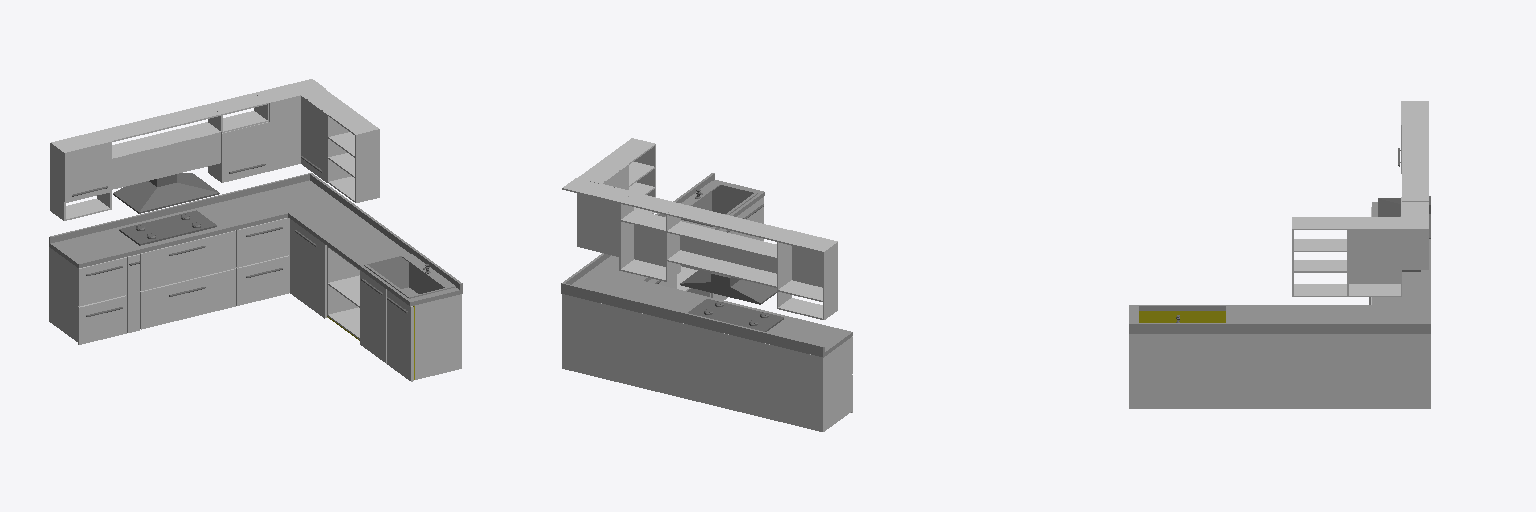
The model's file is kitchenunit.obj.
The picture shows the model from 3 angles: view 1: azimuth 30°, elevation 25°; view 2: azimuth 150°, elevation 25°; view 3: azimuth 270°, elevation 25°; orthographic projection.
Visible parts, largest first — view 1: Cube.004_Cube.005, Cube.025_Cube.032, Cube.010_Cube.011, Cube.008_Cube.009, Cube.003_Cube.004, Cube.018_Cube.023, Cube.012_Cube.013, Cube.016_Cube.000, Cube.027_Cube.034, Cube.026_Cube.033, Cube.049_Cube.048, Cube.021_Cube.026 (+18 smaller); view 2: Cube.001_Cube.002, Cube.004_Cube.005, Cube.025_Cube.032, Cube.016_Cube.000, Cube.019_Cube.040, Cube.042_Cube, Cube.040_Cube.041, Cube.018_Cube.023, Cube.020_Cube.025, Cube.027_Cube.034, Cube.026_Cube.033, Cube.017_Cube.020 (+10 smaller); view 3: Cube.001_Cube.002, Cube.004_Cube.005, Cube.025_Cube.032, Cube.034_Cube.019, Cube.032_Cube.039, Cube.050_Cube.049, Cube.036_Cube.022, Cube.031_Cube.017, Cube.039_Cube.038, Cube.038_Cube.030, Cube.037_Cube.029, Cube.041_Cube.042.
Boxes of the visible parts, box(x1,y1,x2,y2) form: Cube.004_Cube.005: box(49, 173, 462, 306); Cube.025_Cube.032: box(52, 79, 325, 151); Cube.010_Cube.011: box(140, 268, 235, 329); Cube.008_Cube.009: box(140, 230, 235, 290); Cube.003_Cube.004: box(415, 294, 461, 379); Cube.018_Cube.023: box(112, 132, 220, 189); Cube.012_Cube.013: box(290, 219, 327, 318); Cube.016_Cube.000: box(113, 173, 219, 213); Cube.027_Cube.034: box(221, 122, 269, 182); Cube.026_Cube.033: box(64, 141, 111, 201); Cube.049_Cube.048: box(327, 246, 359, 339); Cube.021_Cube.026: box(269, 95, 300, 170); Cube.001_Cube.002: box(562, 294, 850, 431); Cube.004_Cube.005: box(561, 173, 852, 357); Cube.025_Cube.032: box(562, 178, 835, 252); Cube.016_Cube.000: box(680, 270, 776, 304); Cube.019_Cube.040: box(667, 221, 776, 258); Cube.042_Cube: box(688, 299, 783, 331); Cube.040_Cube.041: box(667, 250, 776, 287); Cube.018_Cube.023: box(680, 236, 776, 273); Cube.020_Cube.025: box(577, 183, 600, 252); Cube.027_Cube.034: box(634, 225, 665, 266); Cube.026_Cube.033: box(791, 230, 837, 287); Cube.017_Cube.020: box(823, 242, 837, 319); Cube.001_Cube.002: box(1131, 334, 1430, 408); Cube.004_Cube.005: box(1129, 202, 1430, 333); Cube.025_Cube.032: box(1402, 102, 1428, 230); Cube.034_Cube.019: box(1349, 230, 1400, 283); Cube.032_Cube.039: box(1402, 201, 1428, 269); Cube.050_Cube.049: box(1139, 311, 1225, 322); Cube.036_Cube.022: box(1292, 217, 1346, 229); Cube.031_Cube.017: box(1347, 217, 1401, 229); Cube.039_Cube.038: box(1292, 284, 1346, 296); Cube.038_Cube.030: box(1292, 260, 1346, 272); Cube.037_Cube.029: box(1292, 239, 1346, 251); Cube.041_Cube.042: box(1349, 284, 1400, 296).
Size of the model in its own units: 133 by 88.11 by 133.